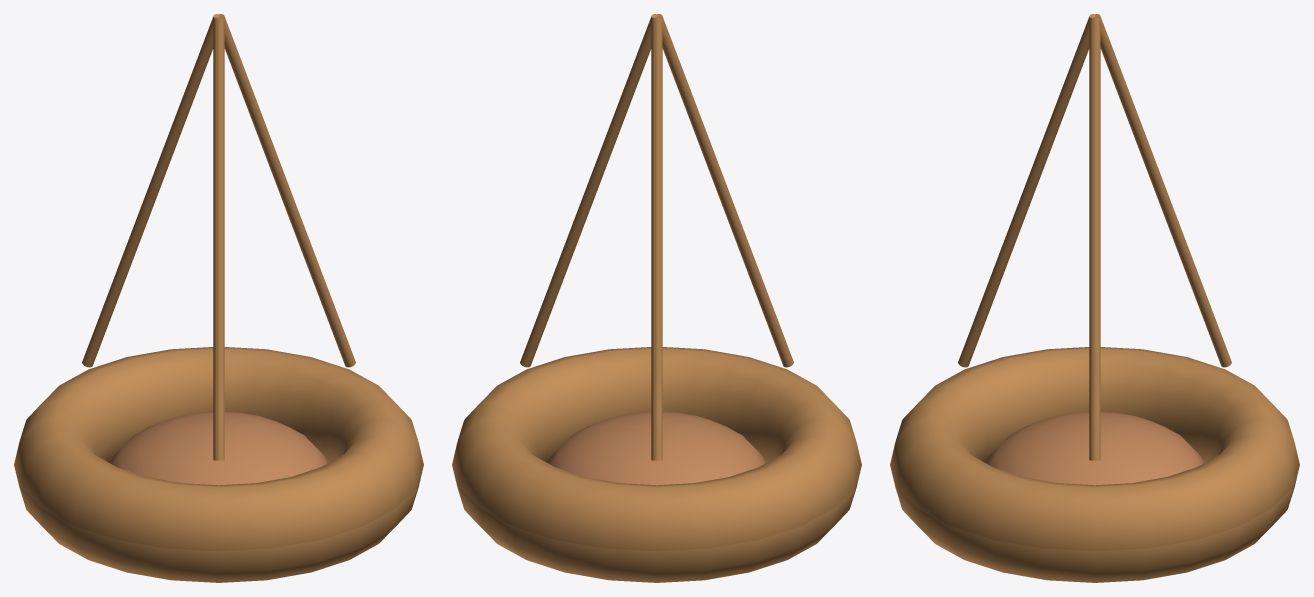
The model's file is incenso.glb.
The picture shows the model from 3 angles, left to right: view 1: azimuth 30°, elevation 25°; view 2: azimuth 150°, elevation 25°; view 3: azimuth 270°, elevation 25°; orthographic projection.
Visible parts, largest first — view 1: Borda do incensário, Brasas, Corrente.001, Corrente, Corrente.002; view 2: Borda do incensário, Brasas, Corrente.002, Corrente, Corrente.001; view 3: Borda do incensário, Brasas, Corrente, Corrente.001, Corrente.002.
Boxes of the visible parts, box(x1,y1,x2,y2) form: Borda do incensário: box(14, 347, 423, 582); Brasas: box(110, 412, 327, 485); Corrente.001: box(213, 17, 224, 460); Corrente: box(219, 14, 355, 367); Corrente.002: box(82, 14, 218, 367); Borda do incensário: box(452, 347, 861, 582); Brasas: box(548, 412, 765, 485); Corrente.002: box(651, 17, 662, 460); Corrente: box(520, 14, 656, 367); Corrente.001: box(657, 14, 793, 367); Borda do incensário: box(890, 347, 1299, 582); Brasas: box(986, 412, 1203, 485); Corrente: box(1089, 17, 1100, 460); Corrente.001: box(958, 14, 1094, 367); Corrente.002: box(1095, 14, 1231, 367).
Bounding box in the file's own units: 1.08 × 1.51 × 1.08.
